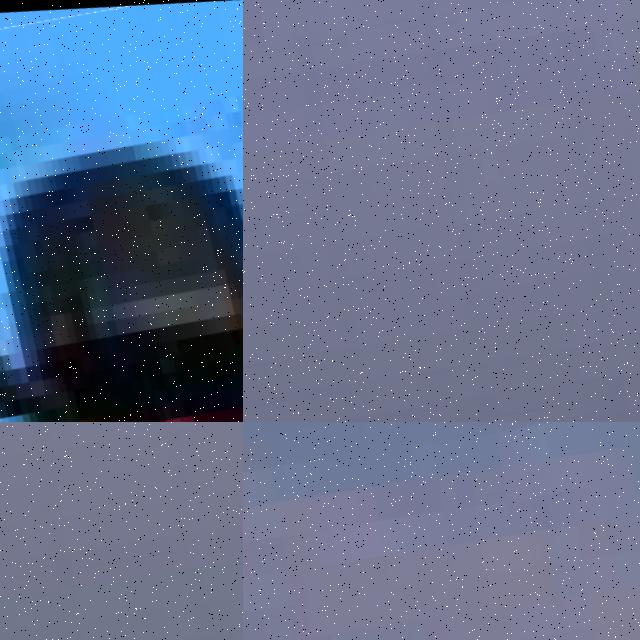drone: (0, 0, 243, 422)
